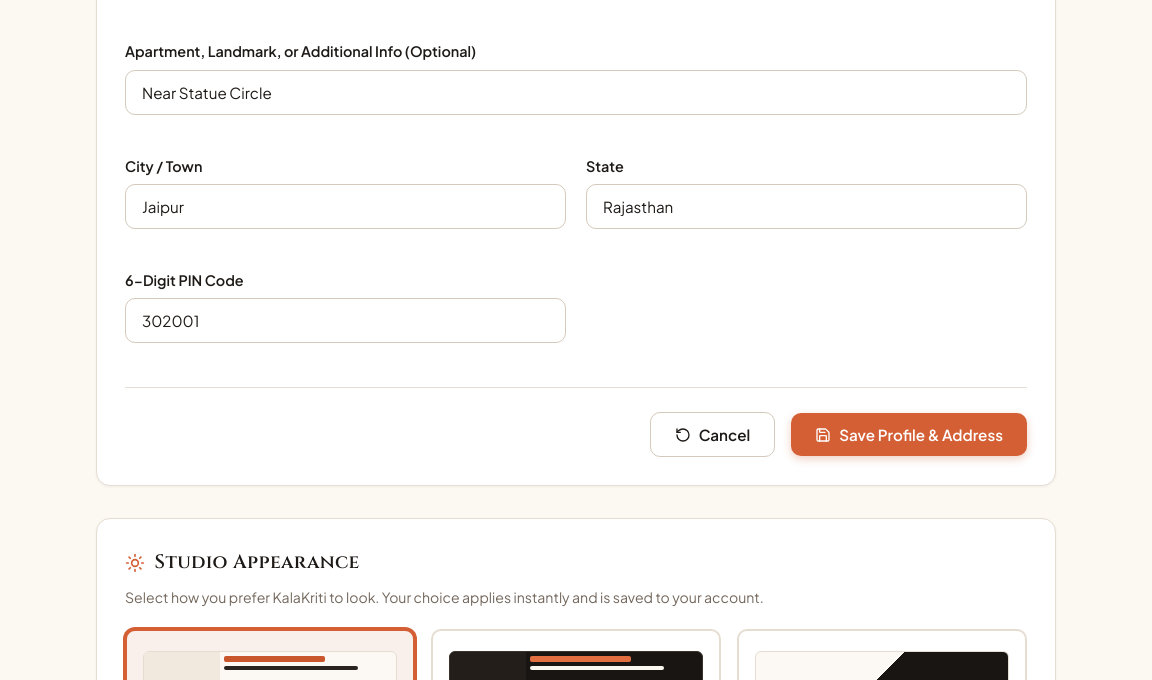
Scenario: PART 1 & 6: Customer Personal Space (Profile Hub) › validates 6-digit Indian PIN code and rejects non-standard postal codes
(page scrolled)
Replace the text in the field labelled "6-Digit PIN Code" with "012345": {"x": 346, "y": 321} [125, 298, 566, 343]
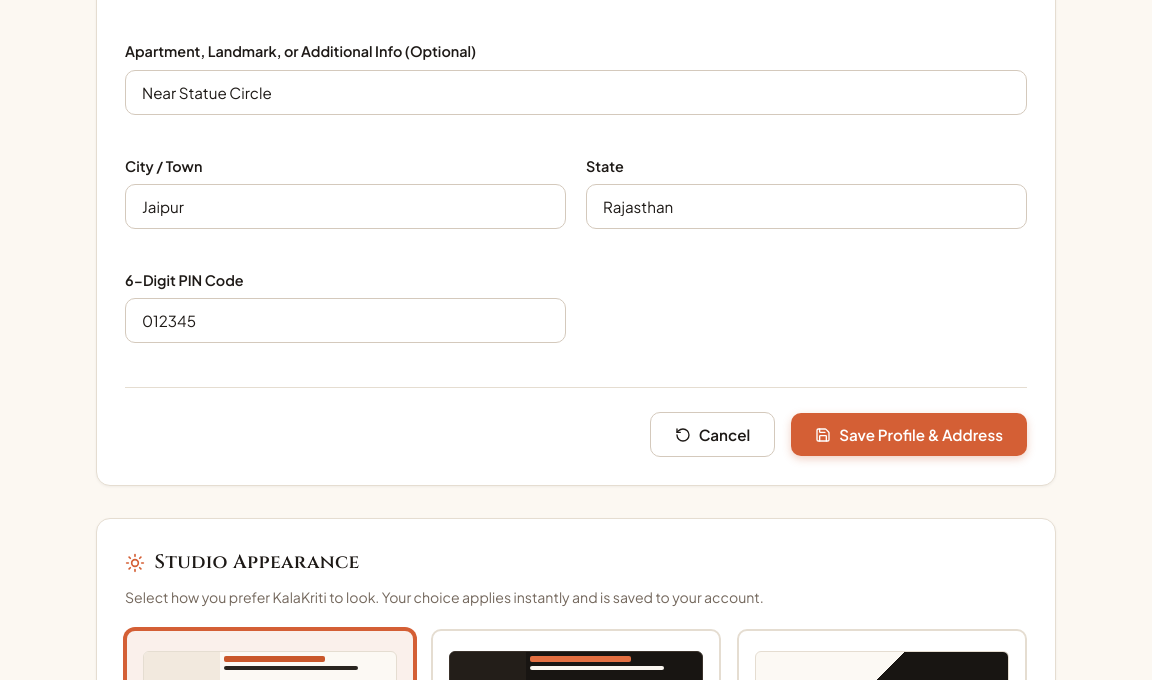
Click the button "Save Profile & Address": {"x": 909, "y": 435} [791, 413, 1027, 456]
(page scrolled)
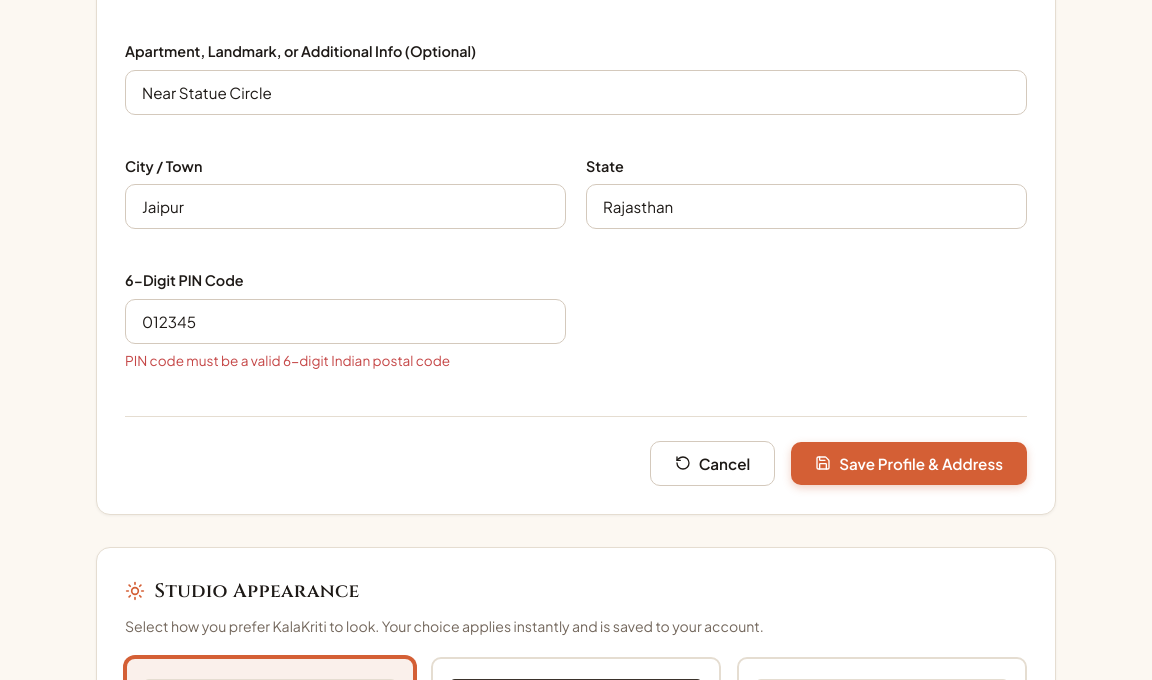
Expected: the text "PIN code must be a valid 6-digit Indian postal code" is shown, [125, 352, 450, 369]
